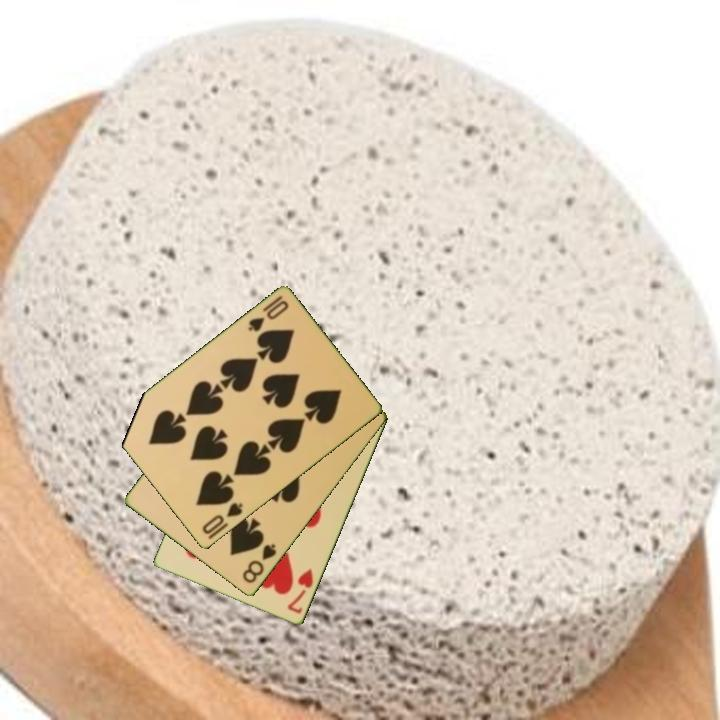10s: (244, 292, 291, 335), (199, 499, 246, 538)
7h: (284, 565, 316, 617)
8s: (239, 540, 279, 587)
